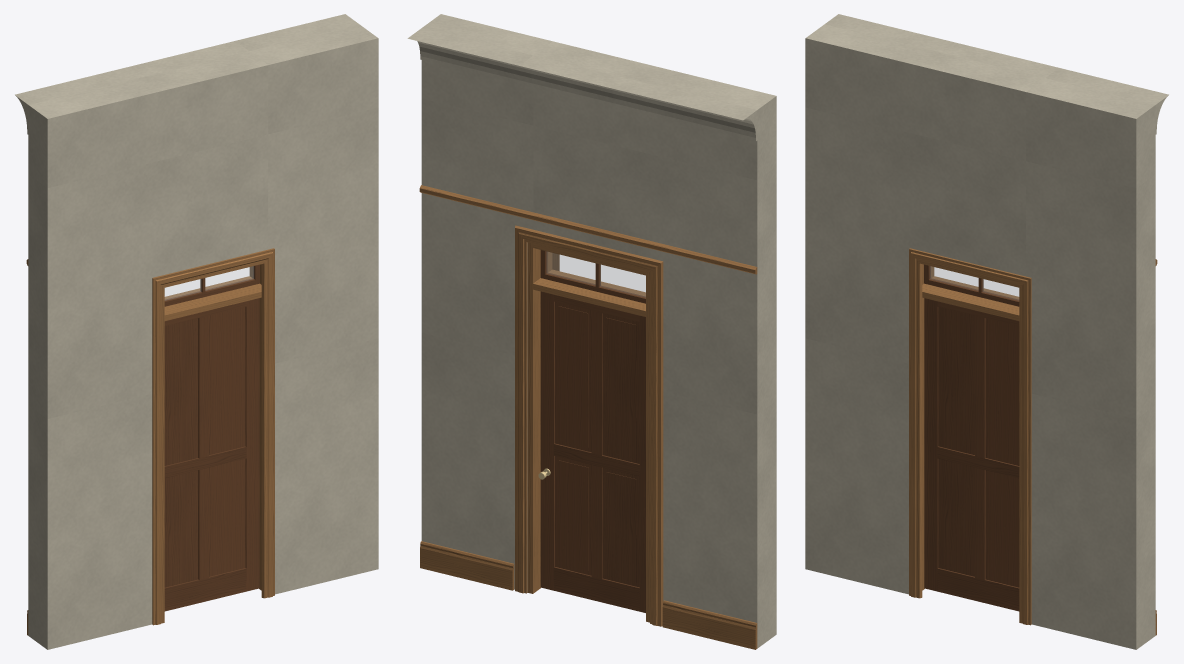
File: X14_ARCH_Wall_Door_300.glb
3 views of the same model, side by side, from view 1: azimuth 30°, elevation 25°; view 2: azimuth 150°, elevation 25°; view 3: azimuth 330°, elevation 25° (orthographic).
Parts seen in each view (by area): view 1: X14_ARCH_Wall_Door_300_LOD0, X14_ARCH_Wall_Door_300_Leaf_LOD0, X14_ARCH_Wall_Door_300_Glass_LOD0; view 2: X14_ARCH_Wall_Door_300_LOD0, X14_ARCH_Wall_Door_300_Leaf_LOD0, X14_ARCH_Wall_Door_300_Glass_LOD0; view 3: X14_ARCH_Wall_Door_300_LOD0, X14_ARCH_Wall_Door_300_Leaf_LOD0, X14_ARCH_Wall_Door_300_Glass_LOD0.
Boxes of the visible parts, x1,y1,x2,y2 form: X14_ARCH_Wall_Door_300_LOD0: (15,14,378,649); X14_ARCH_Wall_Door_300_Leaf_LOD0: (164,298,259,611); X14_ARCH_Wall_Door_300_Glass_LOD0: (165,266,253,300); X14_ARCH_Wall_Door_300_LOD0: (407,14,776,649); X14_ARCH_Wall_Door_300_Leaf_LOD0: (538,291,645,612); X14_ARCH_Wall_Door_300_Glass_LOD0: (546,252,645,297); X14_ARCH_Wall_Door_300_LOD0: (805,14,1168,649); X14_ARCH_Wall_Door_300_Leaf_LOD0: (924,298,1019,611); X14_ARCH_Wall_Door_300_Glass_LOD0: (930,266,1018,300).
Size of what is drawn, in the model's own units: 3 by 4.6 by 0.548.
Materials: 5 (3 with a texture image).
